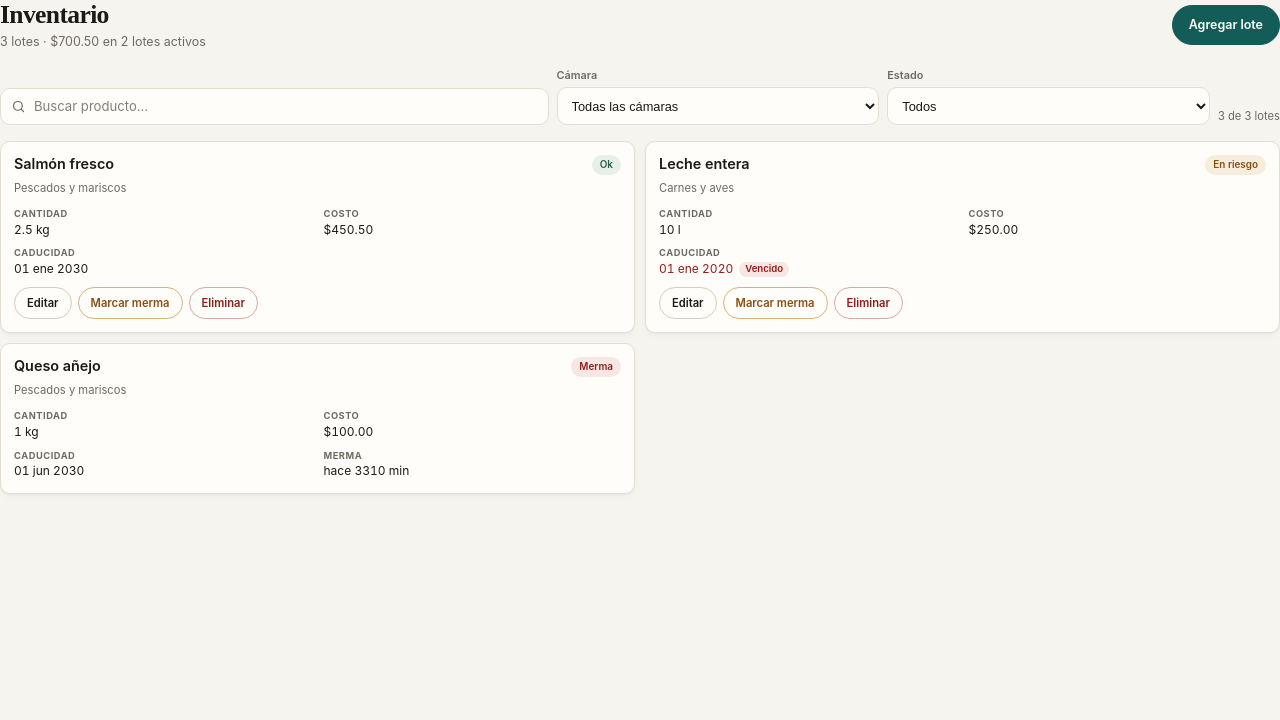
Inventario › marca merma con confirmación y refresca
The width and height of the screenshot is (1280, 720).
Expected: the heading "Inventario" is shown, [0, 0, 109, 29]
Expected: the heading "Salmón fresco" is shown, [14, 155, 114, 174]
Click the button with aria-label "Marcar merma del lote Salmón fresco" at point(130, 303), box [78, 287, 183, 319]
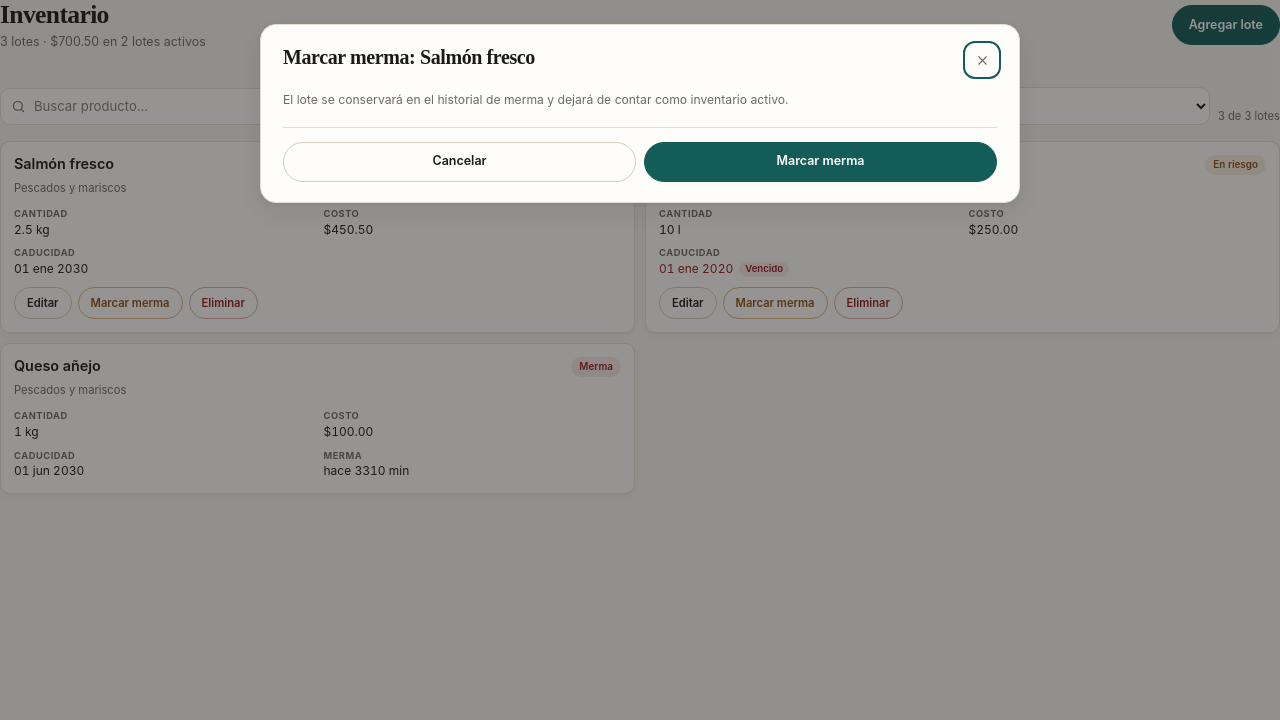
Click the button "Marcar merma" at point(820, 162), box [644, 142, 997, 182]
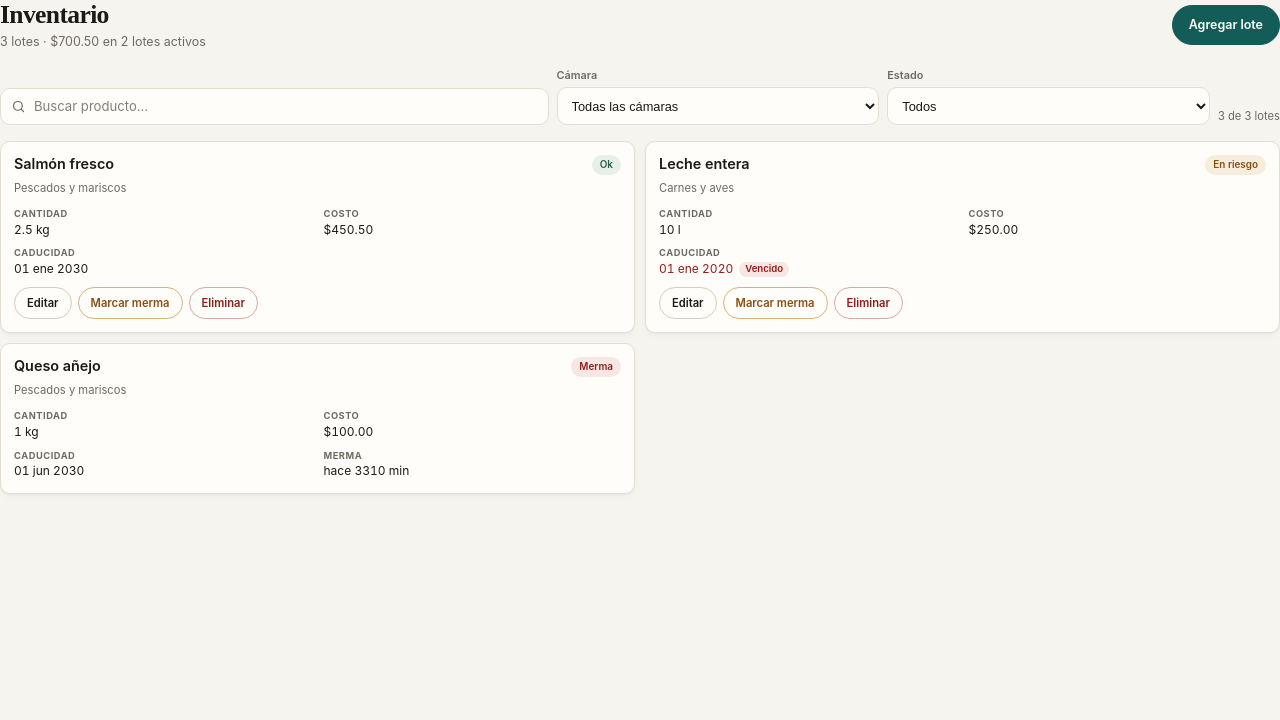
Expected: the heading "Marcar merma: Salmón fresco" is gone
